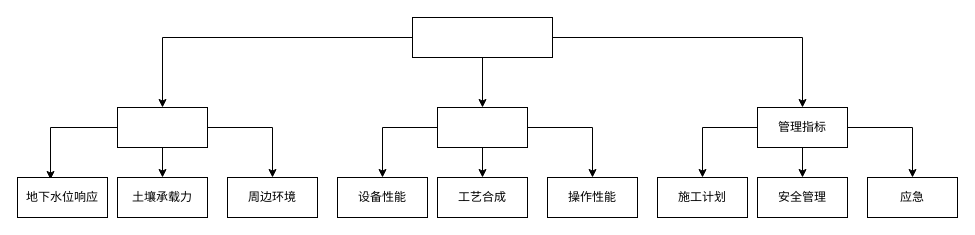
This 975x235 diagram has some shape labels left out. The shapes that lost their labels are listed below. From the top down, each one's box as (x1, y1, x2, y2) in pixels, then its label:
(412, 16, 552, 58): 深基坑施工安全预警指标
(116, 106, 208, 148): 地质环境指标
(436, 106, 528, 148): 设备工艺指标
